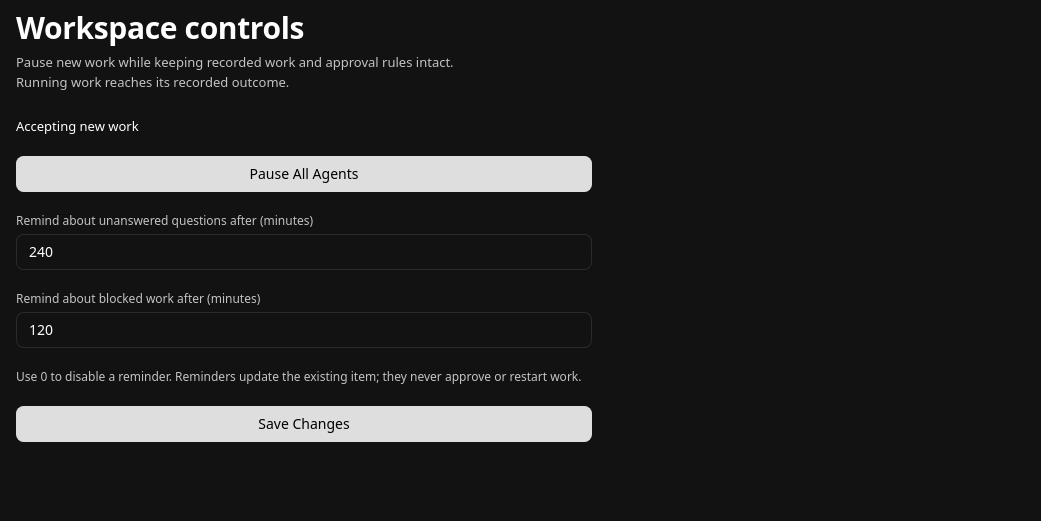
a refused pause keeps accepting-work state and shows the server refusal
Click the button "Pause All Agents" at (304, 174), box 16,156 -> 592,192
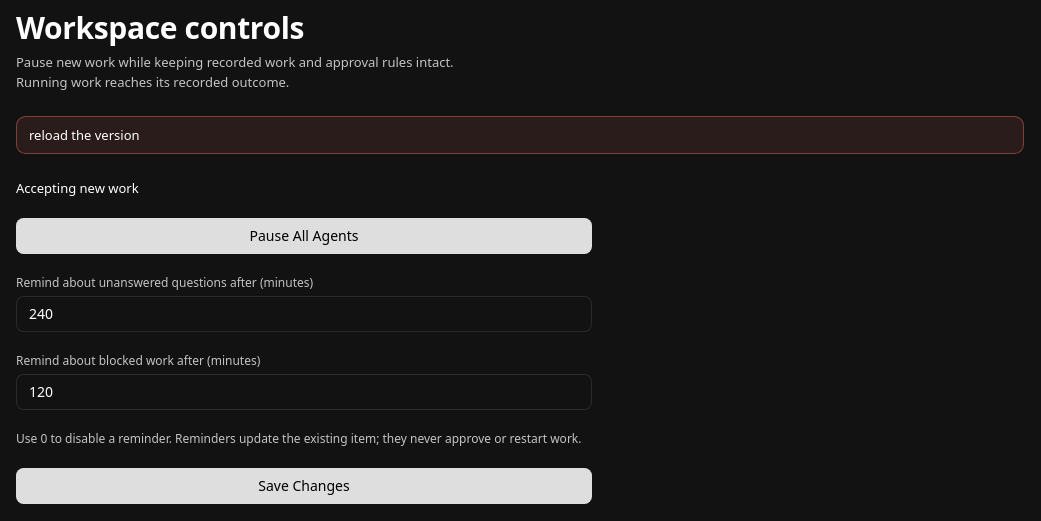
Expected: the button "Pause All Agents" is shown, 16,218 -> 592,254
Now the text "reload the version" is shown, box 16,116 -> 1024,154
